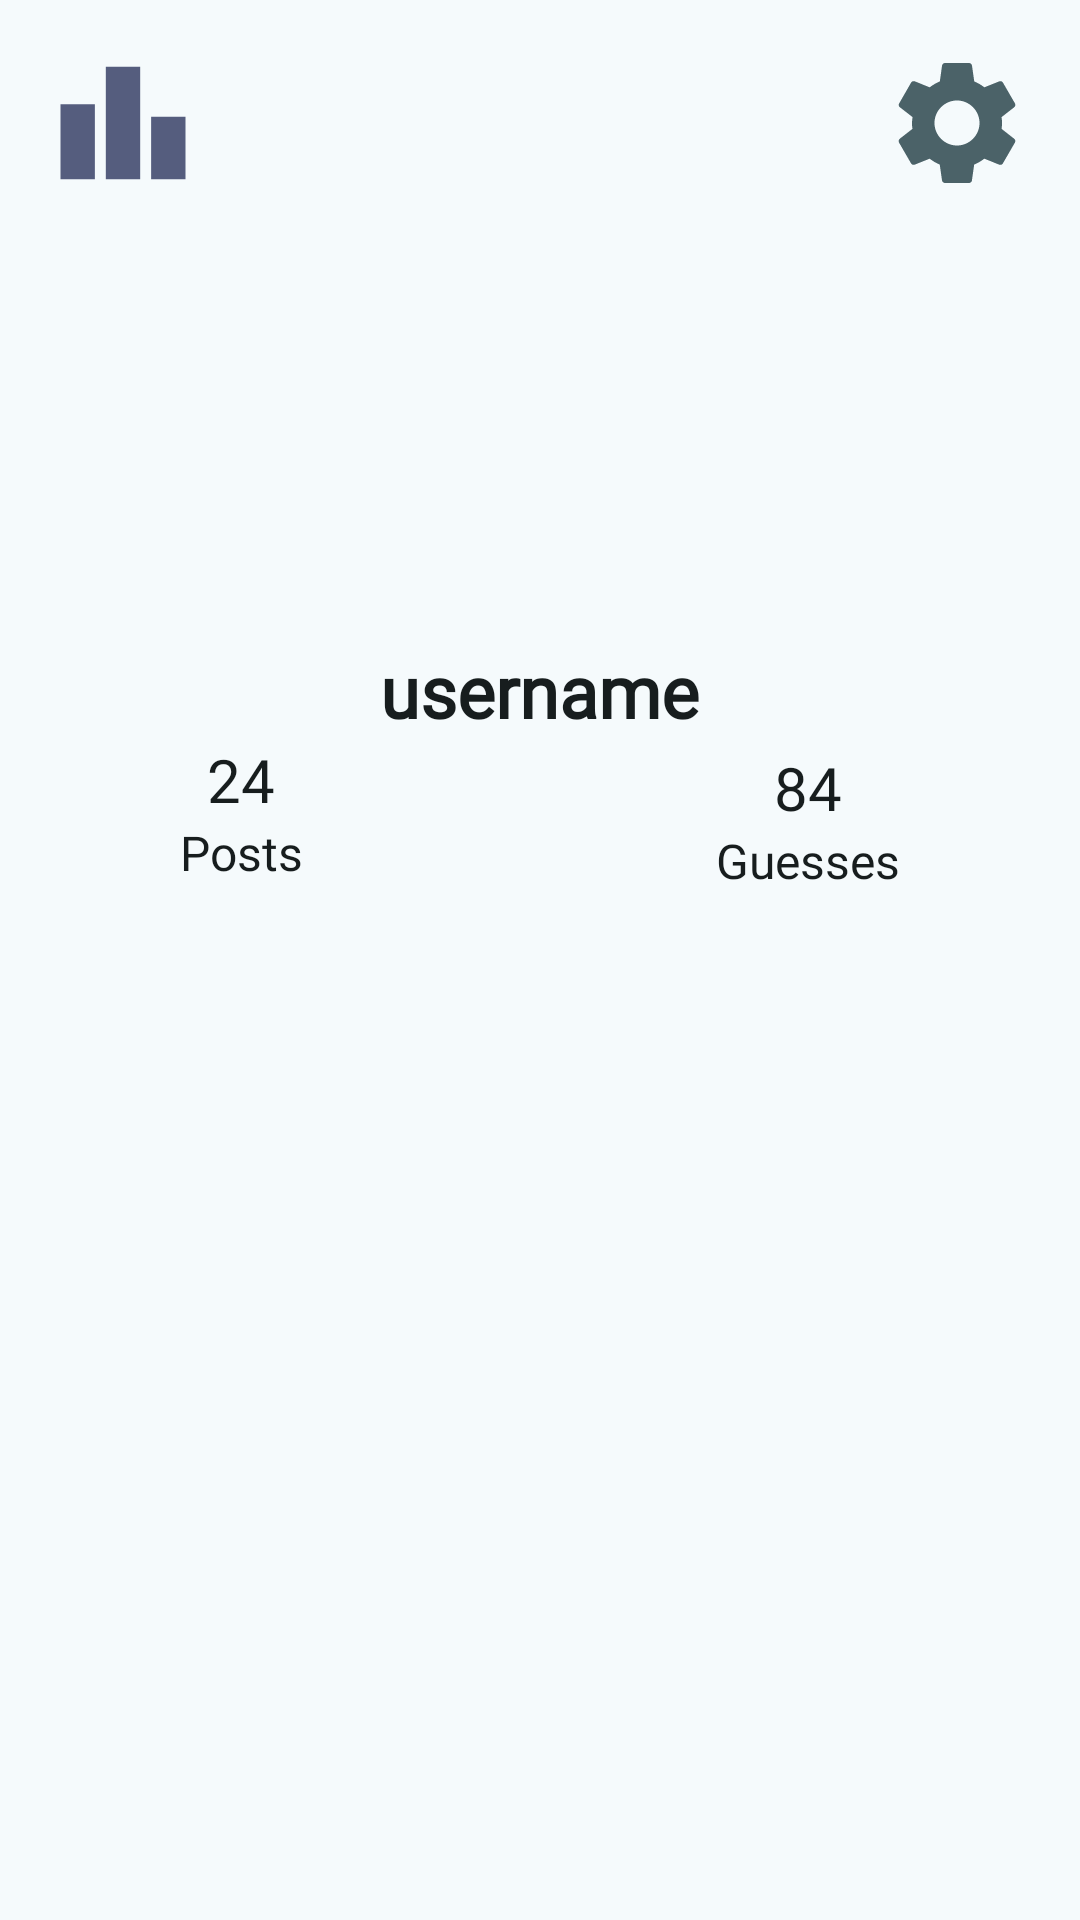

Named icons in this screenshot (1080px×1920px) and their centers, [x,y]:
leaderboard: [123,123]
settings: [957,123]
